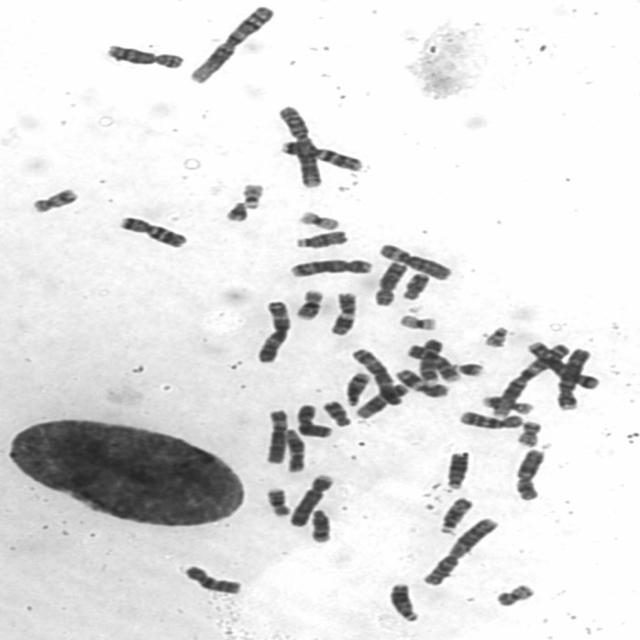A1: (186, 3, 277, 84), (487, 340, 572, 416)
A2: (418, 515, 501, 586), (274, 103, 327, 192)
A3: (346, 348, 404, 407), (253, 300, 293, 364)
B4: (285, 471, 337, 528), (552, 346, 593, 410)
B5: (524, 338, 600, 391), (286, 256, 374, 277)
C10: (186, 565, 246, 594), (455, 408, 524, 431)
C11: (392, 365, 450, 399), (326, 289, 360, 338)
C12: (356, 383, 411, 419), (280, 426, 307, 474)
C6: (375, 243, 453, 281), (260, 406, 290, 466)
C7: (277, 138, 361, 174), (114, 214, 189, 249)
C8: (103, 41, 185, 70), (370, 260, 406, 307)
C9: (404, 343, 456, 383), (419, 336, 446, 389)
D13: (386, 580, 421, 622), (441, 448, 472, 491)
D14: (341, 370, 371, 407), (307, 508, 333, 544)
D15: (435, 496, 475, 536), (292, 228, 350, 249)
E16: (292, 288, 326, 322), (263, 484, 293, 517)
E17: (29, 186, 80, 214), (478, 393, 534, 415)
E18: (399, 270, 430, 301), (319, 398, 352, 427)
F19: (295, 208, 342, 231), (394, 311, 439, 332)
F20: (492, 582, 536, 606), (513, 418, 543, 448)
G21: (222, 199, 250, 222), (450, 360, 486, 377)
G22: (238, 181, 265, 209), (480, 324, 510, 348)
X: (510, 447, 546, 502), (292, 400, 334, 439)
